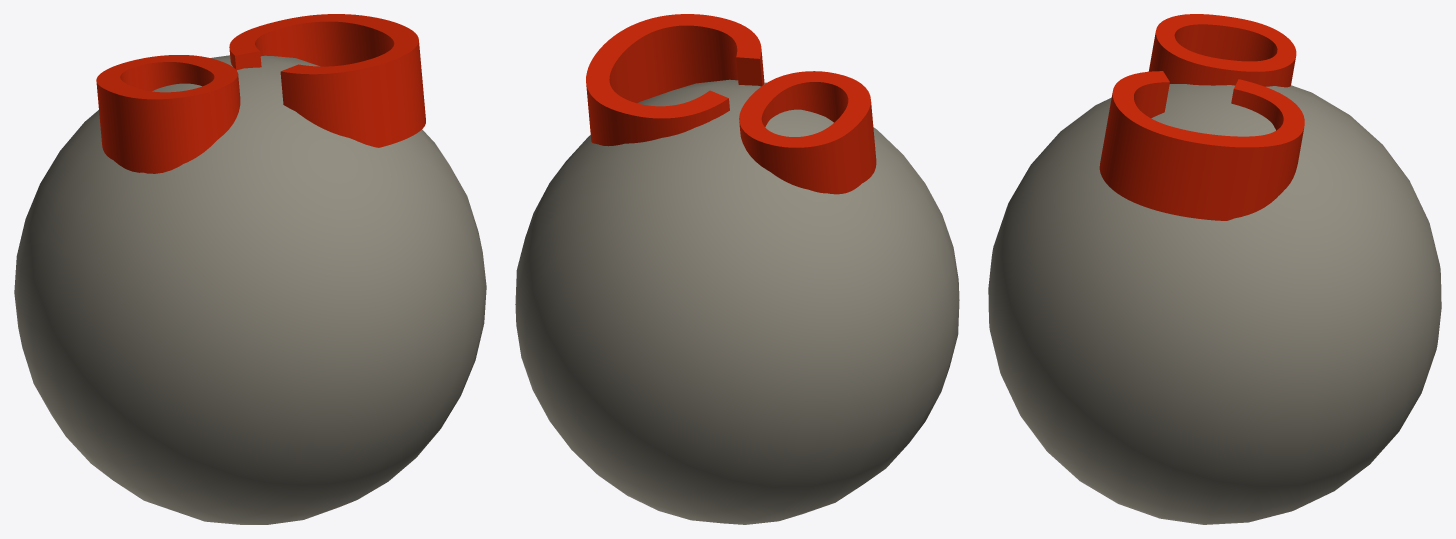
The picture shows the model from 3 angles, left to right: view 1: azimuth 30°, elevation 25°; view 2: azimuth 150°, elevation 25°; view 3: azimuth 270°, elevation 25°; orthographic projection. The views are drawn at different scales.
Parts seen in each view (by area): view 1: Co; view 2: Co; view 3: Co.
Boxes of the visible parts, x1,y1,x2,y2 form: Co: (14,14,486,524); Co: (515,14,959,524); Co: (988,14,1441,524).
Bounding box in the file's own units: 38.69 × 41.53 × 38.6.
